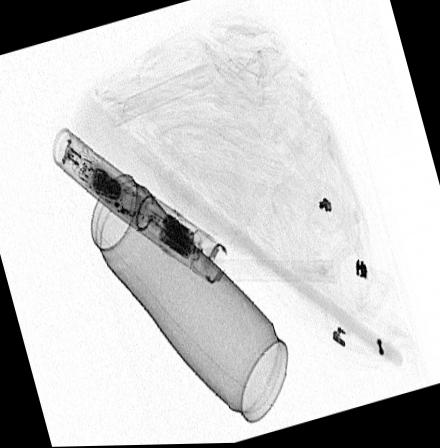Baton: (48, 125, 229, 287)
